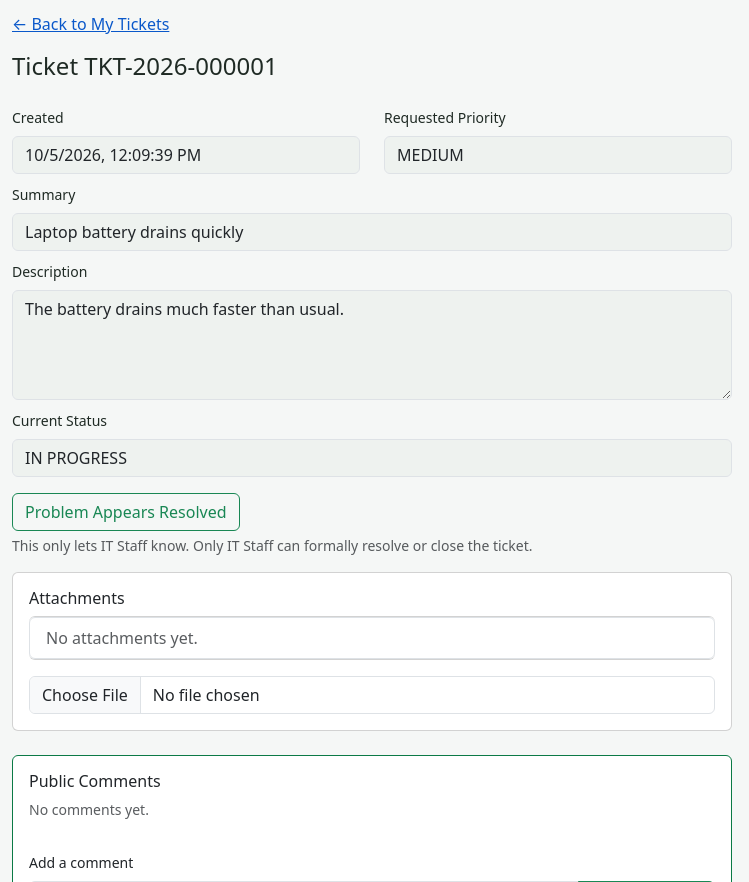
Test: RequesterTicketDetail — Public Comments and Problem Appears Resolved (UI-07) › shows a safe error when marking resolved fails
Click the button "Problem Appears Resolved" at (126, 512), box [12, 493, 240, 531]
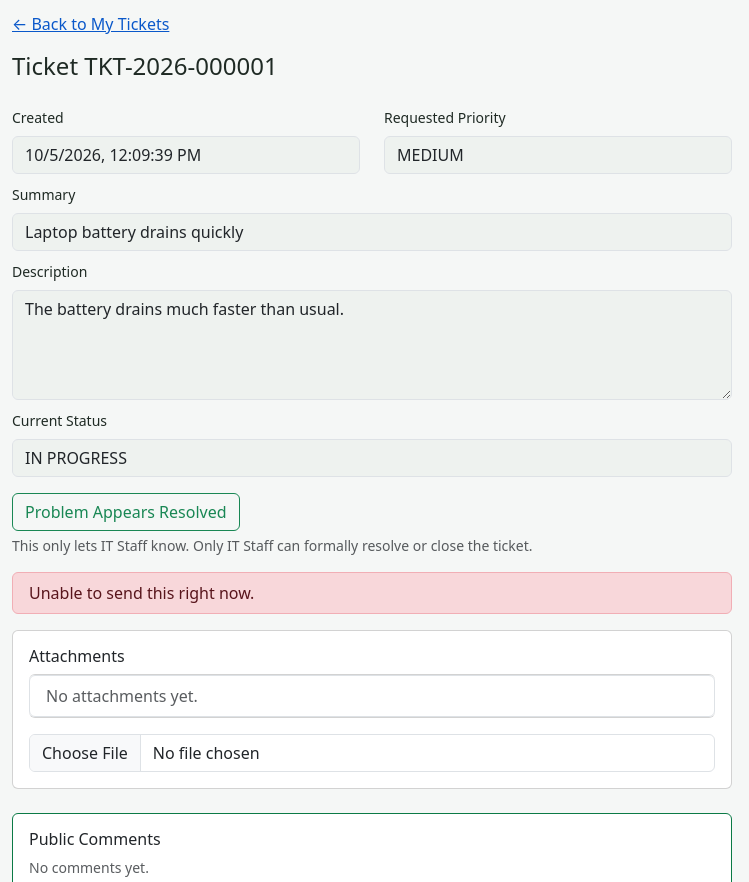
Expected: the message shows "Unable to send this right now", [29, 582, 254, 604]
